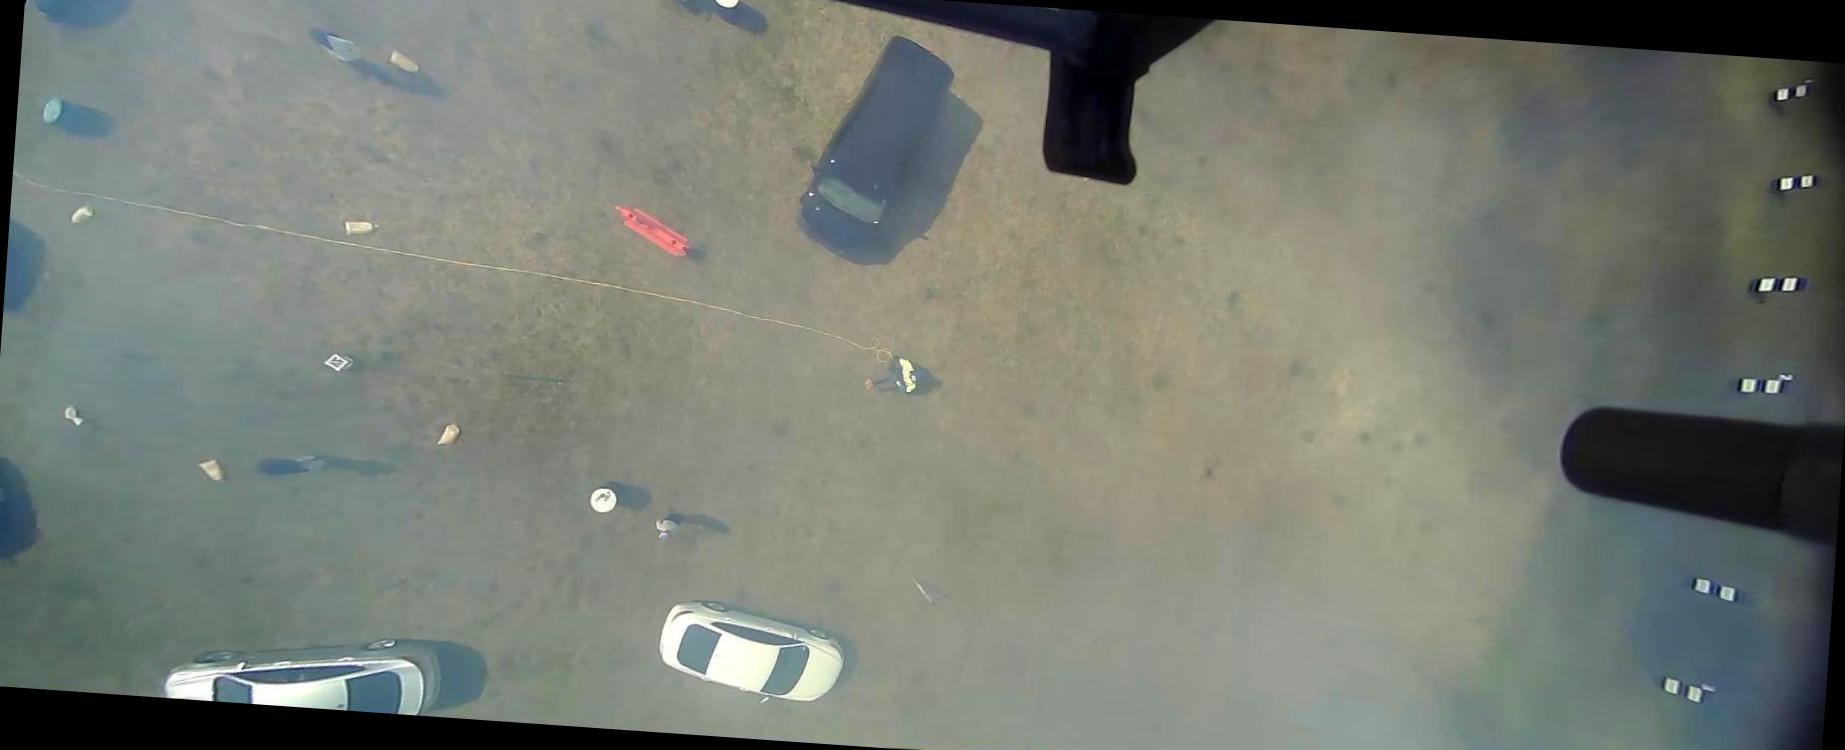vehicle: (793, 28, 958, 263), (158, 618, 446, 717), (653, 596, 847, 712), (28, 0, 134, 33)
